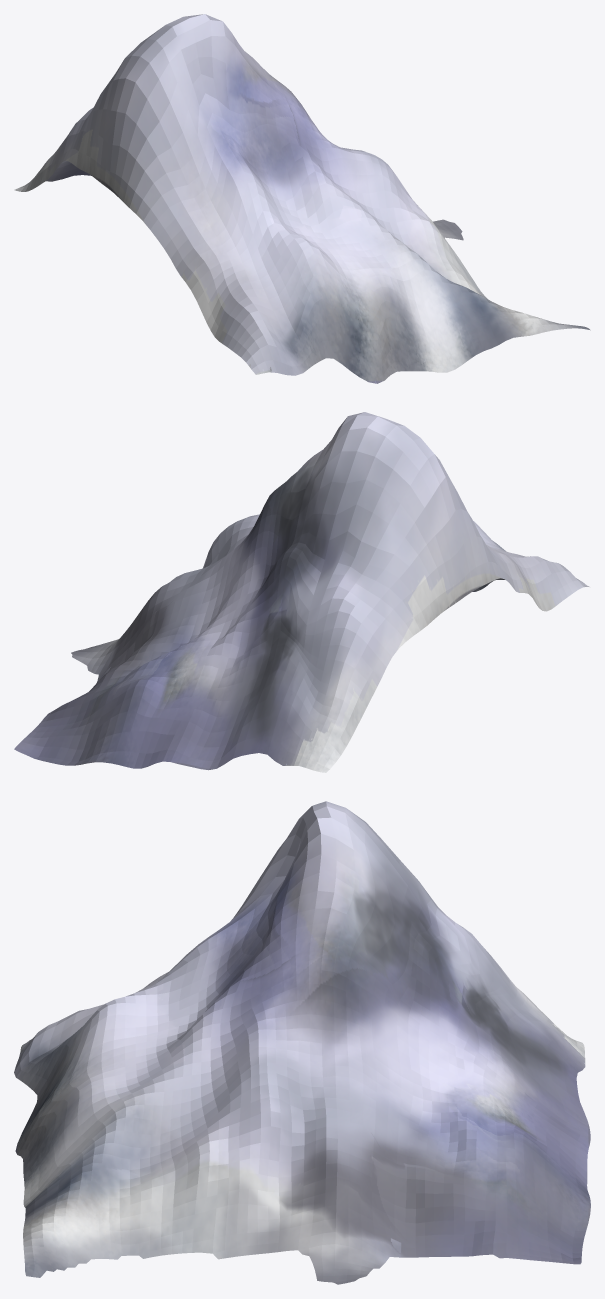
The model's file is mountain med.fbx.
3 renders of one model, top to bottom at view 1: azimuth 30°, elevation 25°; view 2: azimuth 150°, elevation 25°; view 3: azimuth 270°, elevation 25°, orthographic. The views are drawn at different scales.
Parts seen in each view (by area): view 1: Plane.002; view 2: Plane.002; view 3: Plane.002.
Boxes of the visible parts, x1=… form: Plane.002: x1=14, y1=14, x2=590, y2=383; Plane.002: x1=14, y1=412, x2=589, y2=772; Plane.002: x1=14, y1=801, x2=590, y2=1284.
Bounding box in the file's own units: 4745 × 3683 × 5757.
